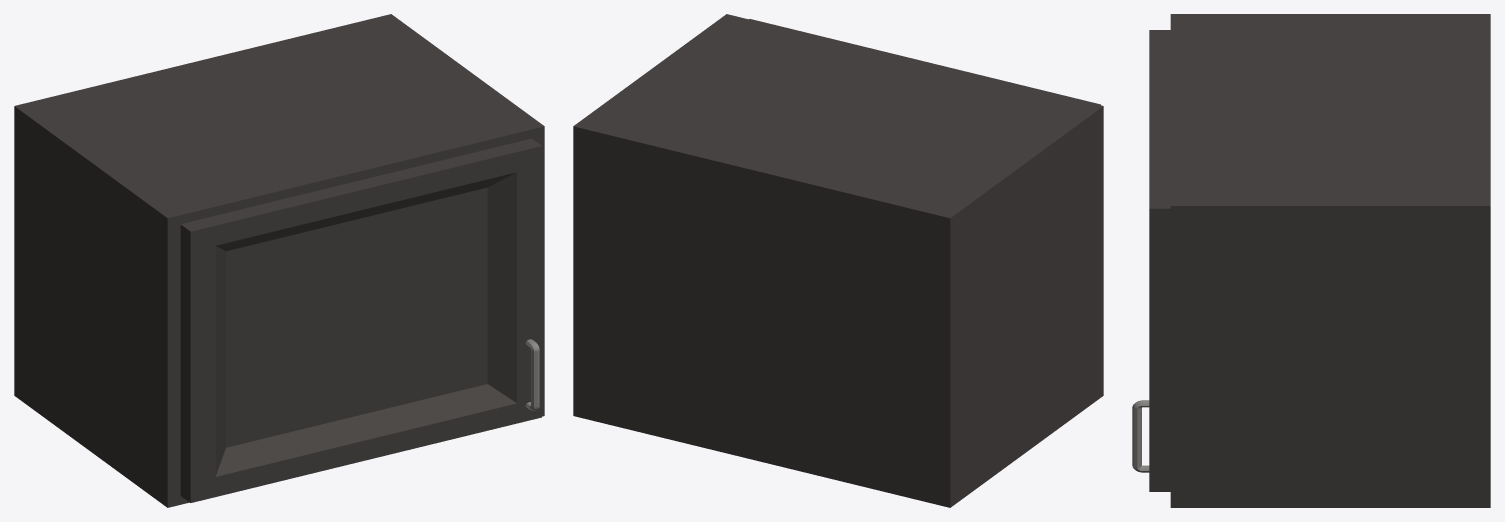
The model's file is Kitchen Tabletop_15.fbx.
3 views of the same model, side by side, from view 1: azimuth 30°, elevation 25°; view 2: azimuth 150°, elevation 25°; view 3: azimuth 270°, elevation 25° (orthographic). The views are drawn at different scales.
Visible parts, largest first — view 1: Kitchen Tabletop_15; view 2: Kitchen Tabletop_15; view 3: Kitchen Tabletop_15.
Part boxes in pixels (x1=…): Kitchen Tabletop_15: x1=14, y1=14, x2=544, y2=507; Kitchen Tabletop_15: x1=573, y1=14, x2=1103, y2=507; Kitchen Tabletop_15: x1=1132, y1=14, x2=1490, y2=507.
Bounding box in the file's own units: 54.31 × 39.87 × 42.84.
